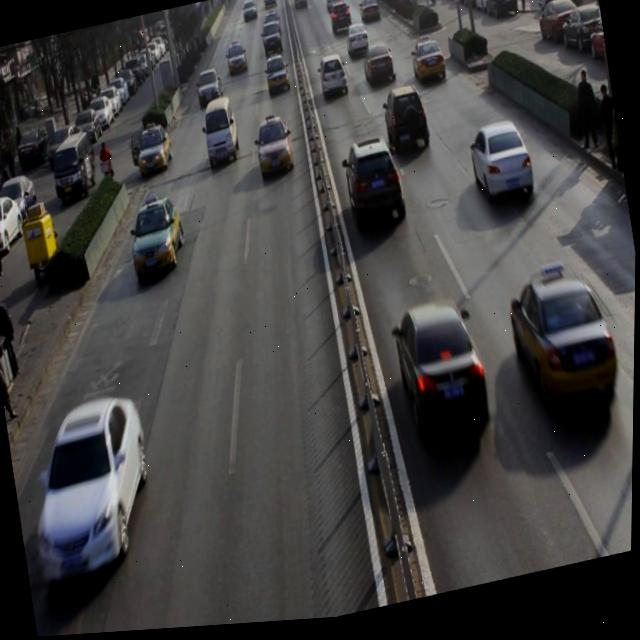car: (23, 401, 166, 588), (505, 271, 627, 429), (390, 299, 496, 450), (468, 121, 541, 220), (341, 138, 410, 239), (127, 197, 190, 283), (382, 88, 435, 165), (253, 116, 297, 182), (134, 124, 175, 181), (409, 38, 449, 91), (361, 43, 398, 95), (317, 54, 349, 104), (262, 54, 293, 100), (194, 68, 225, 109), (345, 24, 372, 61), (260, 24, 285, 61), (225, 43, 249, 79)
truck: (199, 95, 244, 174)
